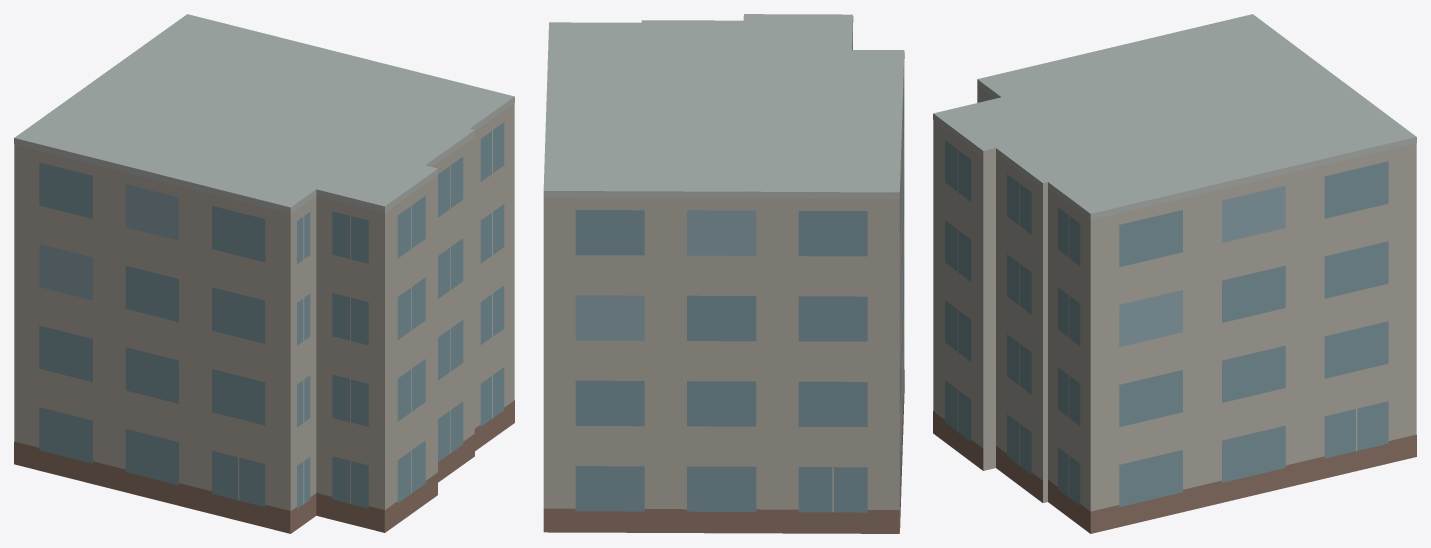
The model's file is survey-upis-32614379.glb.
3 views of the same model, side by side, from view 1: azimuth 30°, elevation 25°; view 2: azimuth 150°, elevation 25°; view 3: azimuth 270°, elevation 25° (orthographic). The views are drawn at different scales.
Visible parts, largest first — view 1: survey-upis-32614379.tmp; view 2: survey-upis-32614379.tmp; view 3: survey-upis-32614379.tmp.
Boxes of the visible parts, <box> form: survey-upis-32614379.tmp: <box>14,14,514,533</box>; survey-upis-32614379.tmp: <box>543,14,904,533</box>; survey-upis-32614379.tmp: <box>933,14,1416,533</box>.
Bounding box in the file's own units: 16.36 × 12.2 × 16.72.
